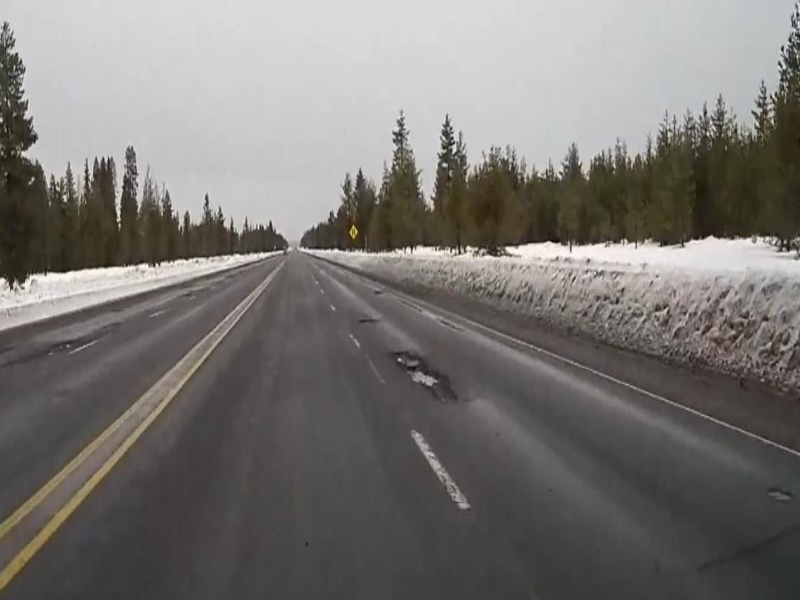pothole: (390, 347, 452, 400)
